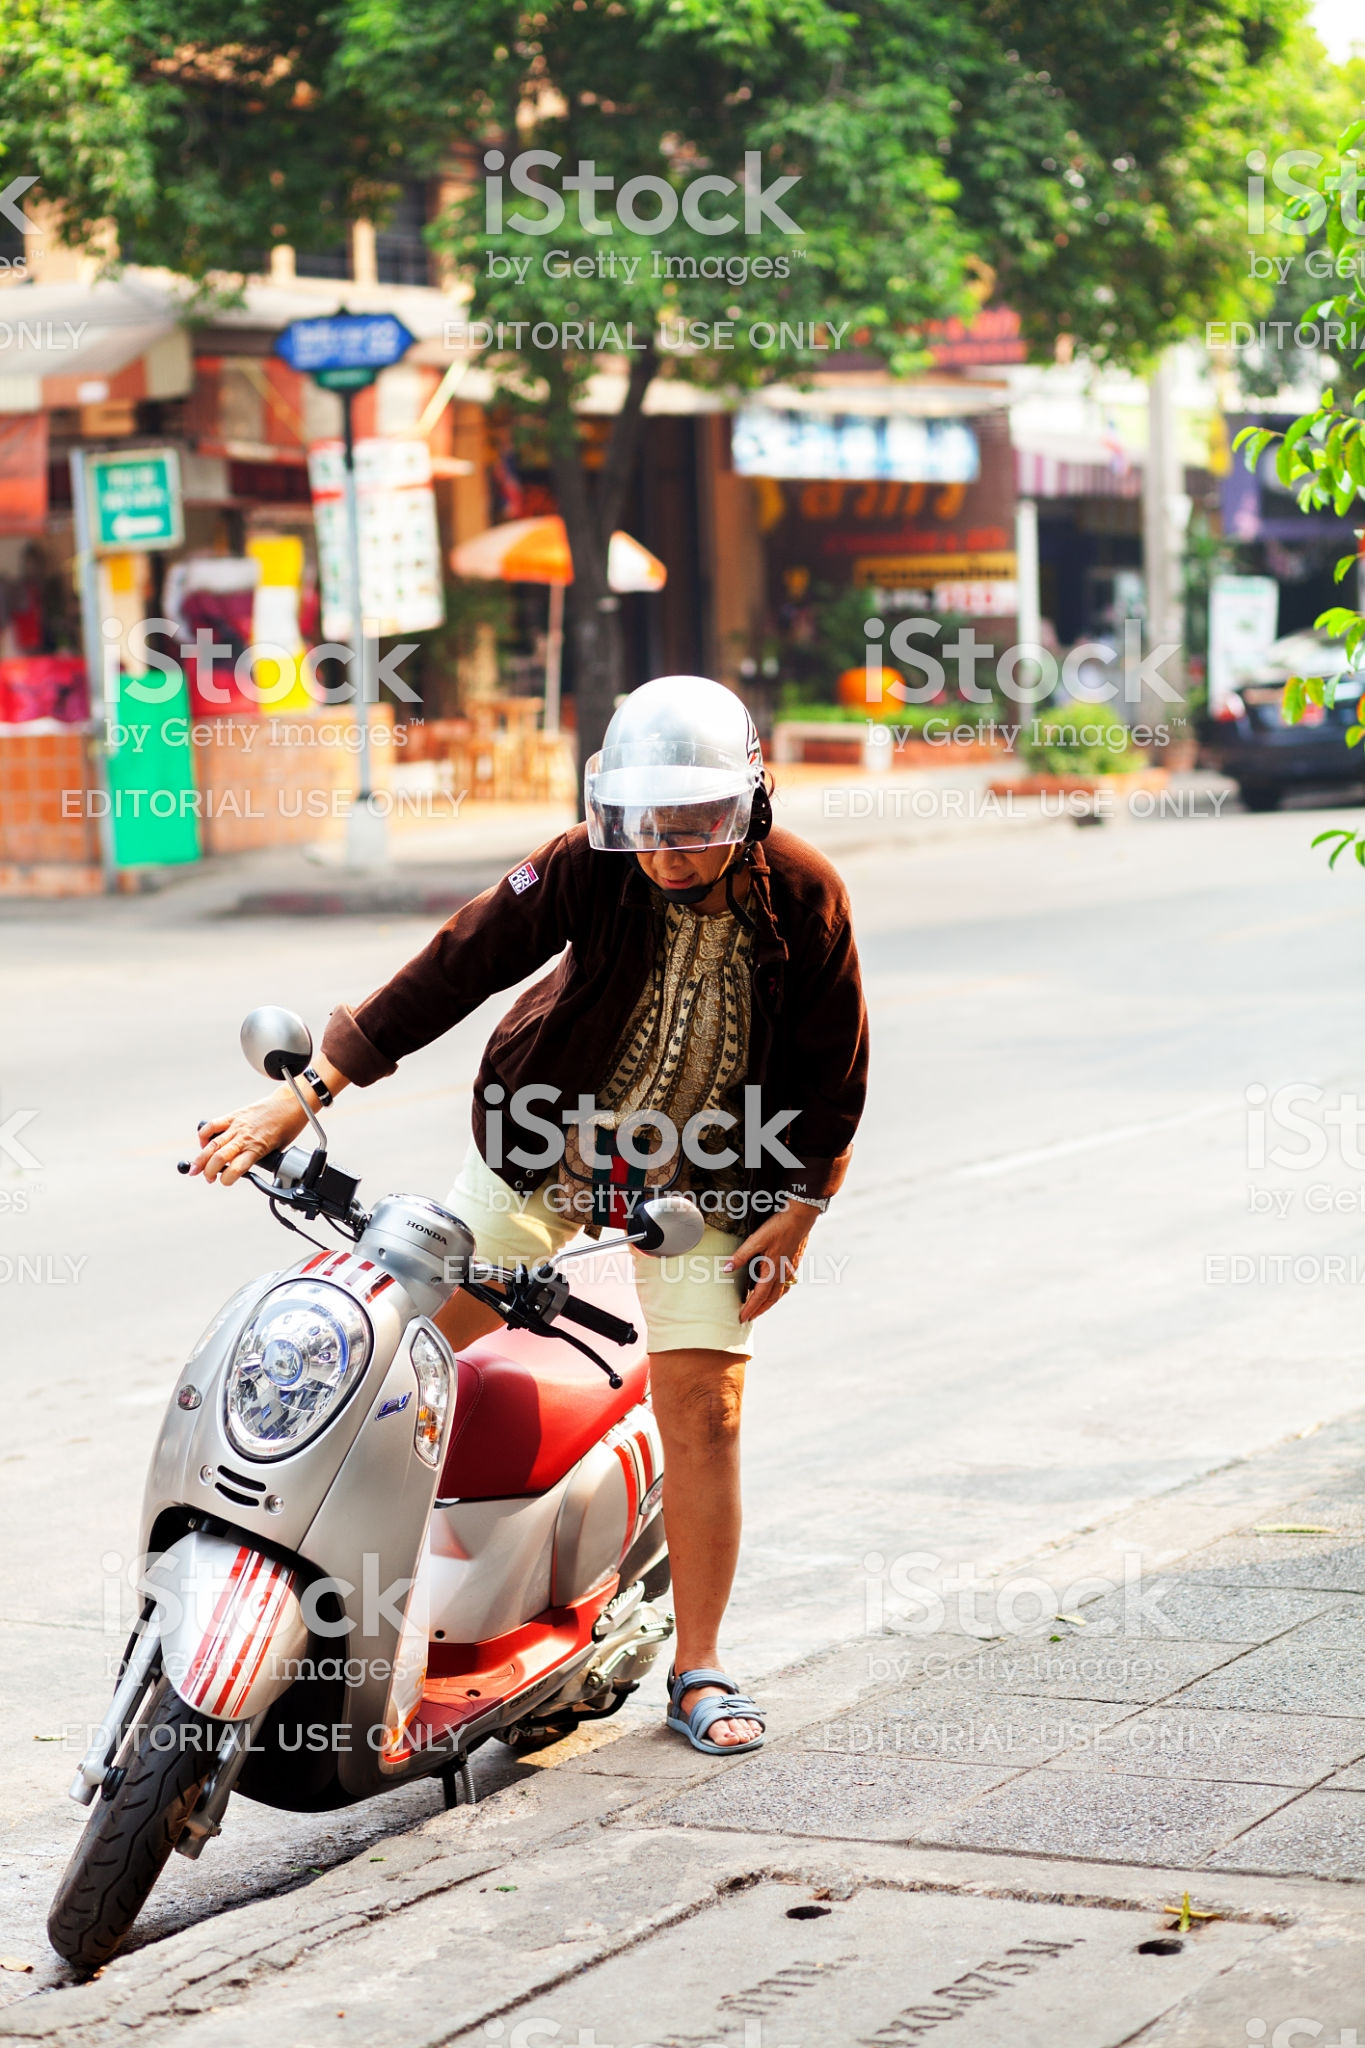helmet: (576, 641, 769, 844)
